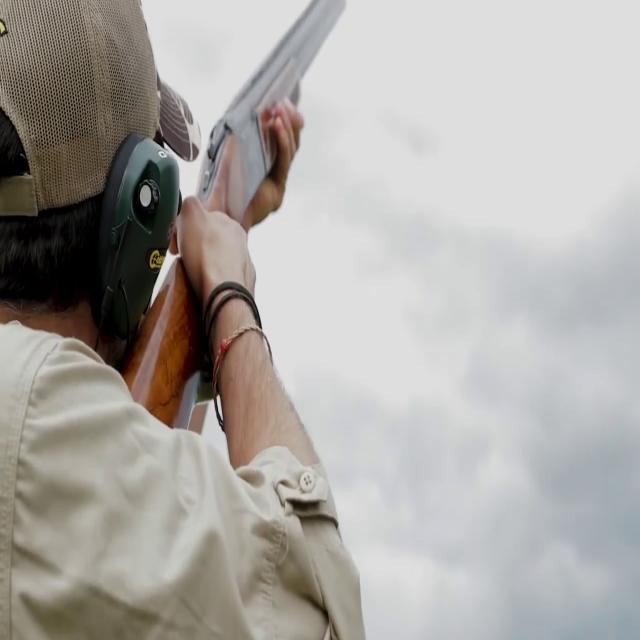earmuff: (87, 123, 181, 354)
